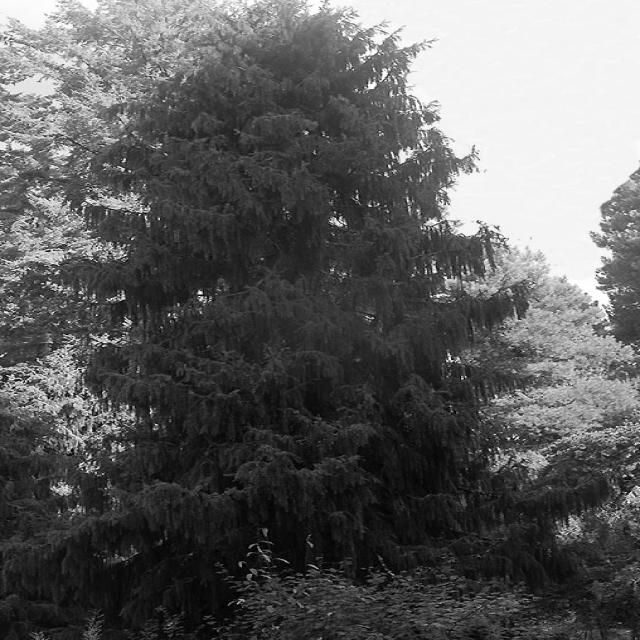Picea breweriana: (75, 0, 533, 578)
